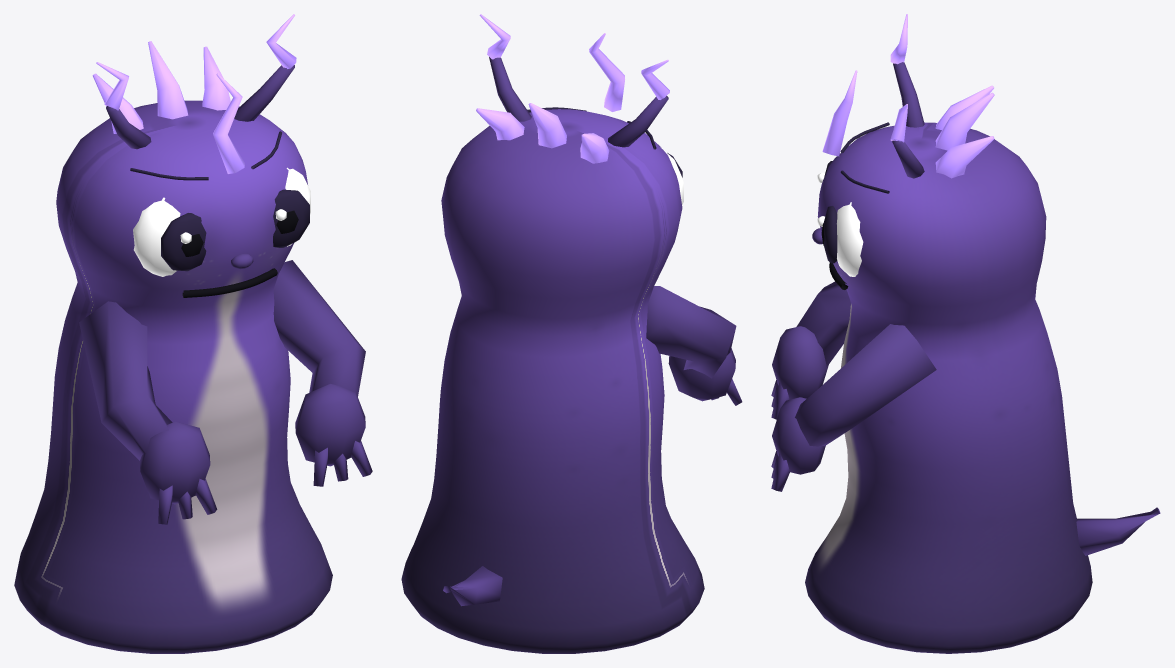
The model's file is abismo_pixar.glb.
The picture shows the model from 3 angles, left to right: view 1: azimuth 30°, elevation 25°; view 2: azimuth 150°, elevation 25°; view 3: azimuth 270°, elevation 25°; orthographic projection. The views are drawn at different scales.
Visible parts, largest first — view 1: abismo_cuerpo; view 2: abismo_cuerpo; view 3: abismo_cuerpo.
Part boxes in pixels (left/top/right/bottom): abismo_cuerpo: left=14, top=14, right=372, bottom=653; abismo_cuerpo: left=401, top=14, right=742, bottom=653; abismo_cuerpo: left=771, top=14, right=1160, bottom=653.
Size of the model in its own units: 0.2973 by 0.58 by 0.383.
Materials: 5 (1 with a texture image).
